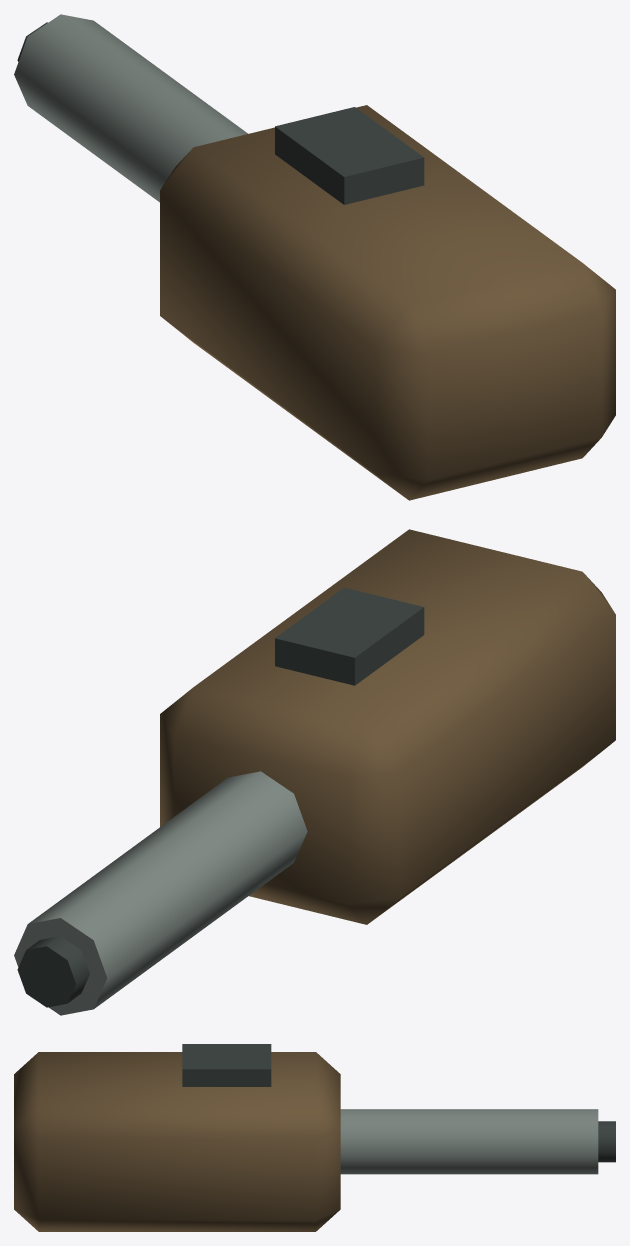
Rendered from legionary_weapon.obj.
3 views of the same model, one above another, from view 1: azimuth 30°, elevation 25°; view 2: azimuth 150°, elevation 25°; view 3: azimuth 270°, elevation 25° (orthographic). The views are drawn at different scales.
Visible parts, largest first — view 1: source_component_000, source_component_001, source_component_003; view 2: source_component_000, source_component_001, source_component_003, source_component_002; view 3: source_component_000, source_component_001, source_component_003, source_component_002.
Part boxes in pixels (left/top/right/bottom): source_component_000: left=160, top=105, right=615, bottom=500; source_component_001: left=14, top=14, right=247, bottom=202; source_component_003: left=275, top=107, right=424, bottom=204; source_component_000: left=160, top=529, right=615, bottom=924; source_component_001: left=14, top=771, right=307, bottom=1015; source_component_003: left=275, top=587, right=424, bottom=685; source_component_002: left=17, top=936, right=89, bottom=1007; source_component_000: left=14, top=1052, right=340, bottom=1231; source_component_001: left=340, top=1109, right=598, bottom=1174; source_component_003: left=182, top=1044, right=271, bottom=1086; source_component_002: left=598, top=1121, right=615, bottom=1162.
Bounding box in the file's own units: 0.18 × 0.165 × 0.608.
